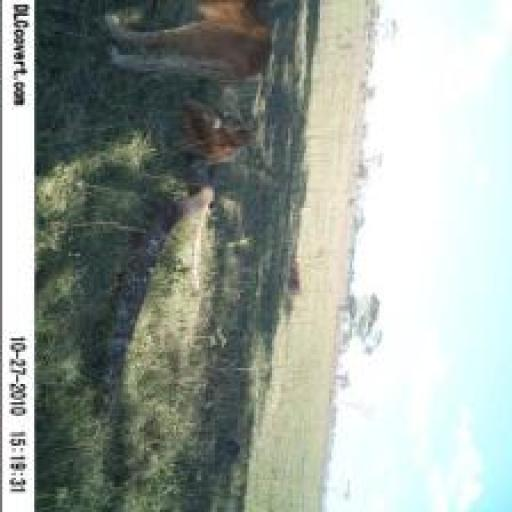lion: (87, 2, 289, 84), (144, 98, 255, 180)
